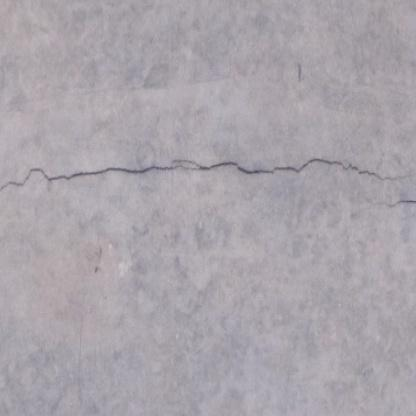Cracks: (0, 155, 405, 197), (383, 195, 416, 212)
